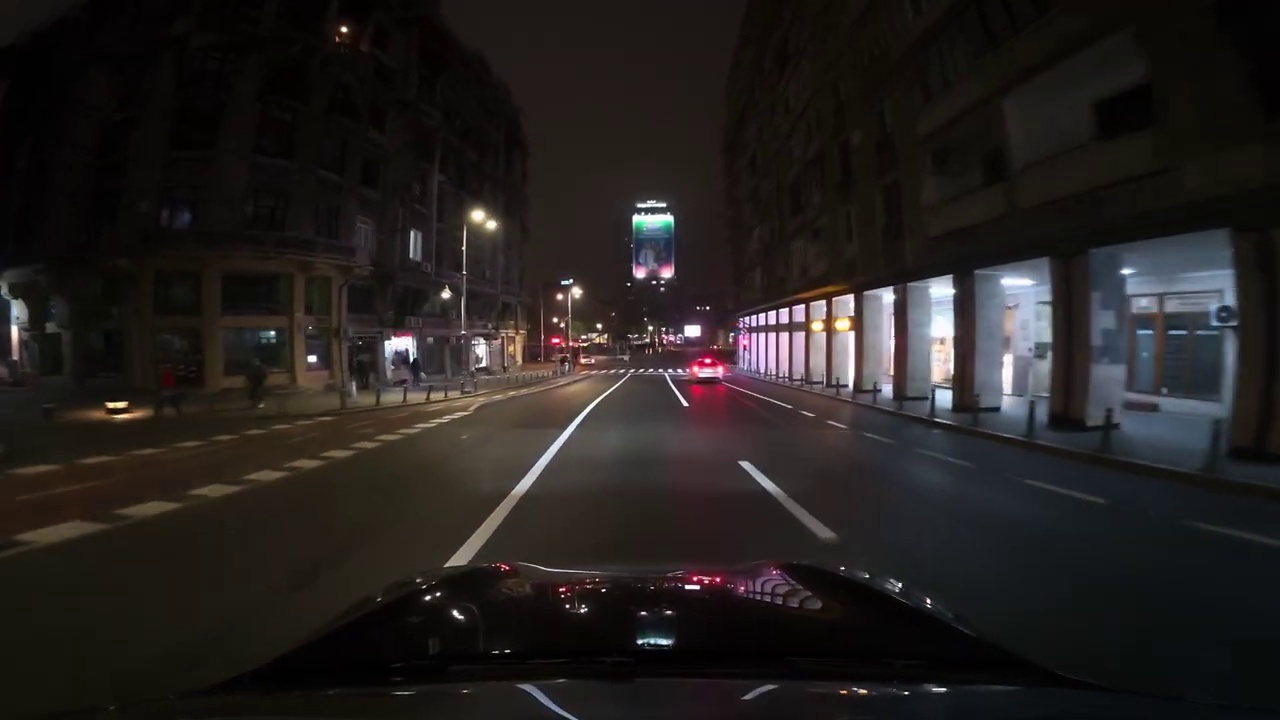acesa: (467, 207, 497, 234)
